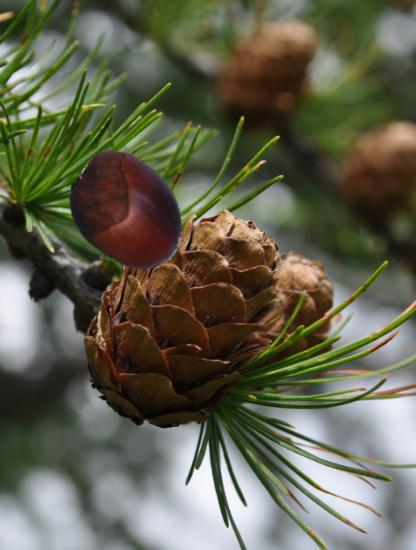Chestnut: (67, 150, 191, 274)
